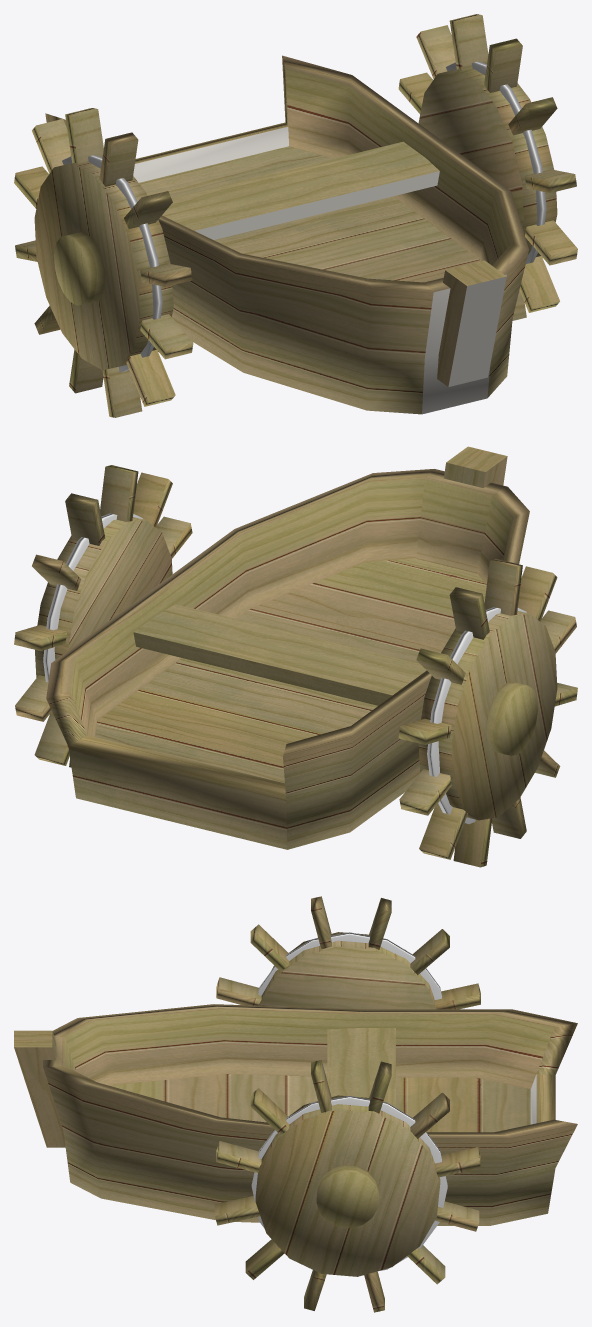
The model's file is boat 1.fbx.
3 renders of one model, top to bottom at view 1: azimuth 30°, elevation 25°; view 2: azimuth 150°, elevation 25°; view 3: azimuth 270°, elevation 25°, orthographic. The views are drawn at different scales.
Visible parts, largest first — view 1: boat, screw; view 2: boat, screw; view 3: boat, screw.
Boxes of the visible parts, x1,y1,x2,y2 form: boat: (45,55,528,414); screw: (14,14,577,417); boat: (46,446,529,849); screw: (14,465,577,867); boat: (14,1004,577,1225); screw: (214,896,480,1312).
Size of the model in its own units: 47.83 by 28.21 by 59.77.
